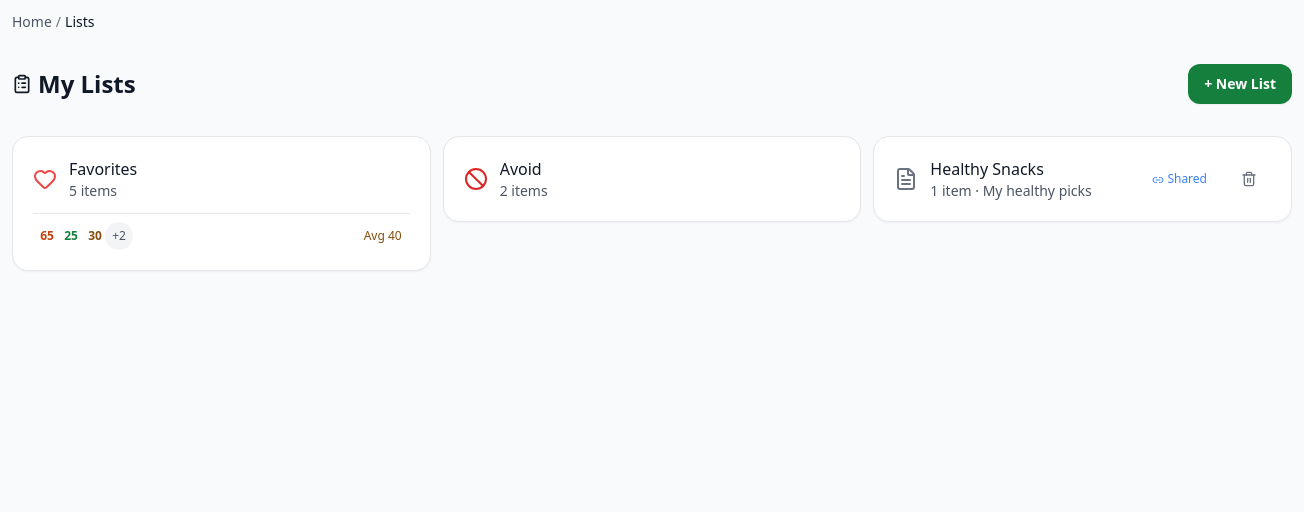
Scenario: ListsPage › disables create button when name is empty
The width and height of the screenshot is (1304, 512).
Click the button "+ New List" at (1240,84), box [1188, 64, 1292, 104]
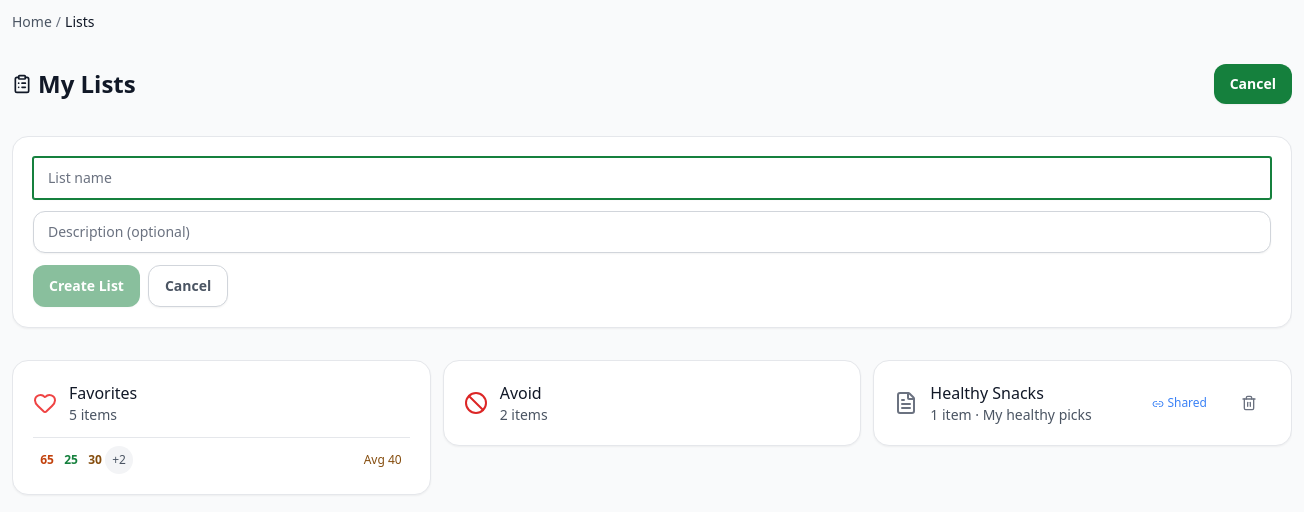
Check: the button "Create List" is disabled, box [33, 265, 140, 307]
